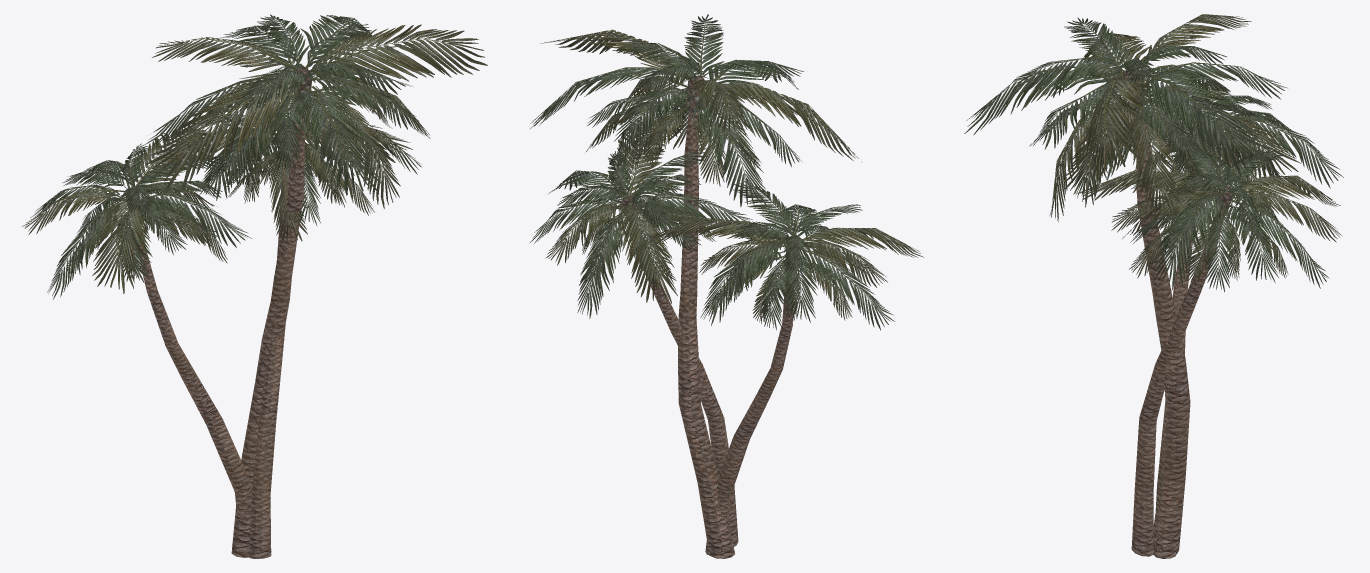
File: hl-palm.glb
3 views of the same model, side by side, from view 1: azimuth 30°, elevation 25°; view 2: azimuth 150°, elevation 25°; view 3: azimuth 270°, elevation 25° (orthographic). The views are drawn at different scales.
Parts seen in each view (by area): view 1: Palm0, Palm2, Palm1; view 2: Palm0, Palm2, Palm1; view 3: Palm0, Palm1, Palm2.
Part boxes in pixels (x1,y1,x2,y2): Palm0: (144, 14, 487, 557); Palm2: (21, 127, 252, 521); Palm1: (150, 108, 421, 558); Palm0: (530, 14, 861, 558); Palm2: (647, 181, 923, 555); Palm1: (530, 119, 752, 546); Palm0: (964, 14, 1287, 554); Palm1: (1077, 132, 1341, 556); Palm2: (1079, 78, 1343, 558).
Bounding box in the file's own units: 7.77 × 9.14 × 6.15.
1 material, 1 textured.
